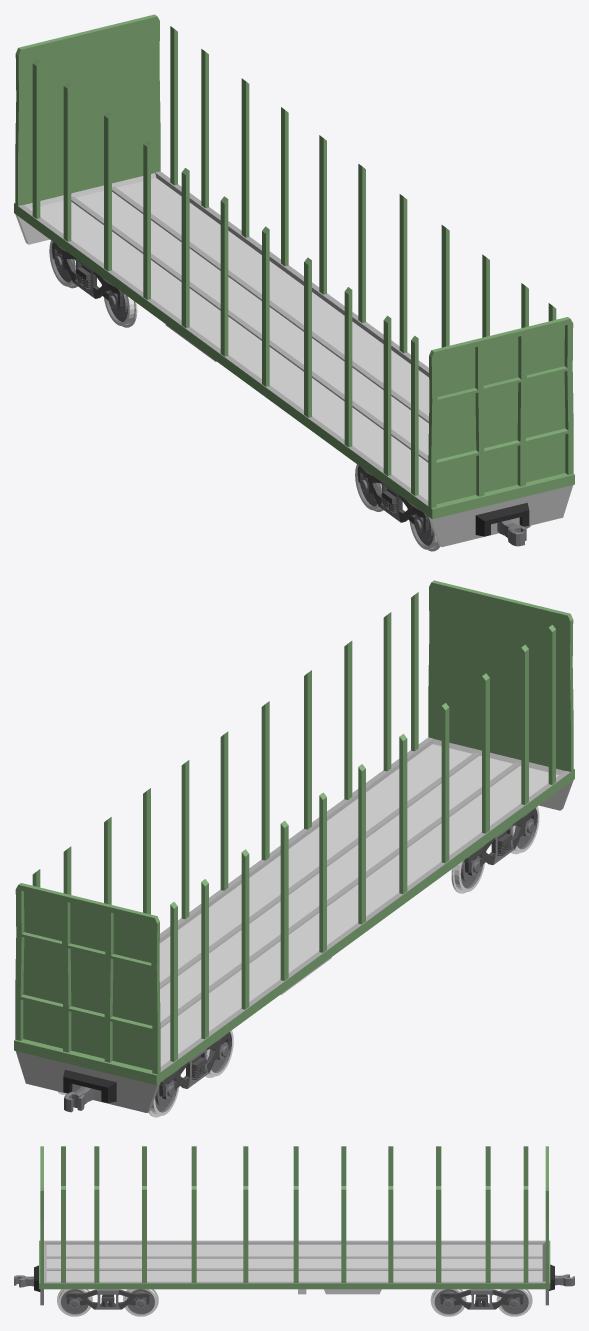
File: Logging car.fbx
3 renders of one model, top to bottom at view 1: azimuth 30°, elevation 25°; view 2: azimuth 150°, elevation 25°; view 3: azimuth 270°, elevation 25°, orthographic. The views are drawn at different scales.
Parts seen in each view (by area): view 1: Body, Coupling, Cart.001, Cart.002, Cylinder.002; view 2: Body, Coupling.001, Cart.001, Cart.002, Cylinder.001; view 3: Body, Cart.001, Cart.002, Cylinder, Cylinder.001, Cylinder.003, Cylinder.002, Coupling, Coupling.001.
Boxes of the visible parts, x1,y1,x2,y2 form: Body: (14,14,574,546); Coupling: (475,502,529,546); Cart.001: (358,466,429,533); Cart.002: (52,242,123,309); Cylinder.002: (104,289,137,327); Body: (14,580,574,1112); Coupling.001: (63,1069,116,1112); Cart.001: (464,808,536,875); Cart.002: (159,1032,230,1099); Cylinder.001: (451,855,484,893); Body: (39,1146,550,1305); Cart.001: (66,1289,149,1309); Cart.002: (440,1289,523,1309); Cylinder: (57,1289,92,1316); Cylinder.001: (123,1289,158,1316); Cylinder.003: (496,1289,532,1316); Cylinder.002: (430,1289,466,1316); Coupling: (14,1265,40,1291); Coupling.001: (549,1264,574,1290).
Size of the model in its own units: 155 by 233 by 864.
